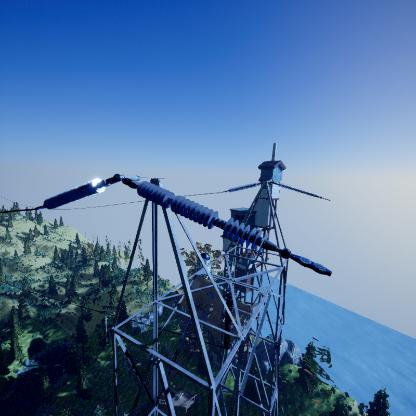insulator: (135, 180, 270, 251), (44, 177, 107, 210)
